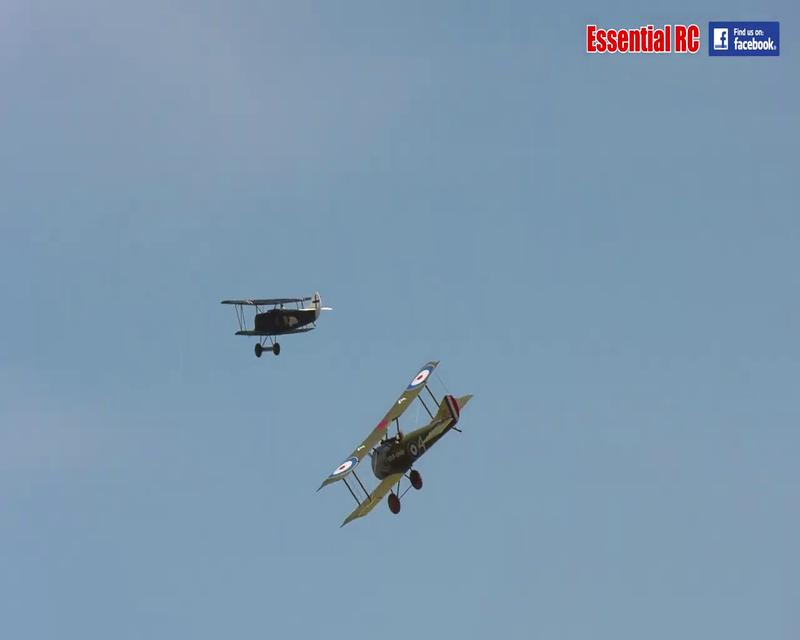UAV: (315, 361, 473, 526), (220, 291, 334, 360)
